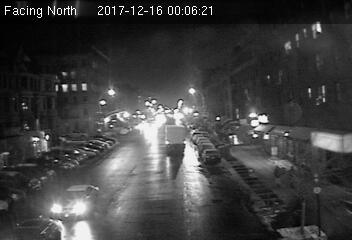car: (49, 183, 100, 215), (8, 218, 65, 240), (202, 150, 222, 163)
truck: (165, 123, 187, 154)
